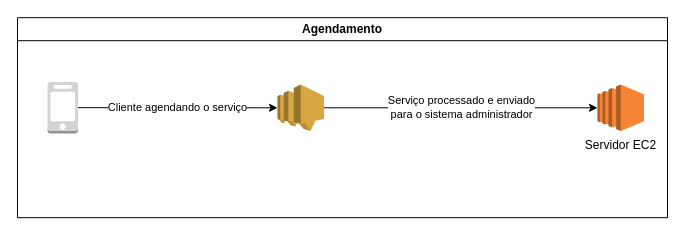
The diagram is 685 pixels wide and 235 high, and some of its shapes have lost their labels. The box of each missing label's shape, as (x1, y1, x2, y2) in pixels:
Amazon SNS: (276, 84, 324, 131)
Cliente: (46, 81, 78, 133)
